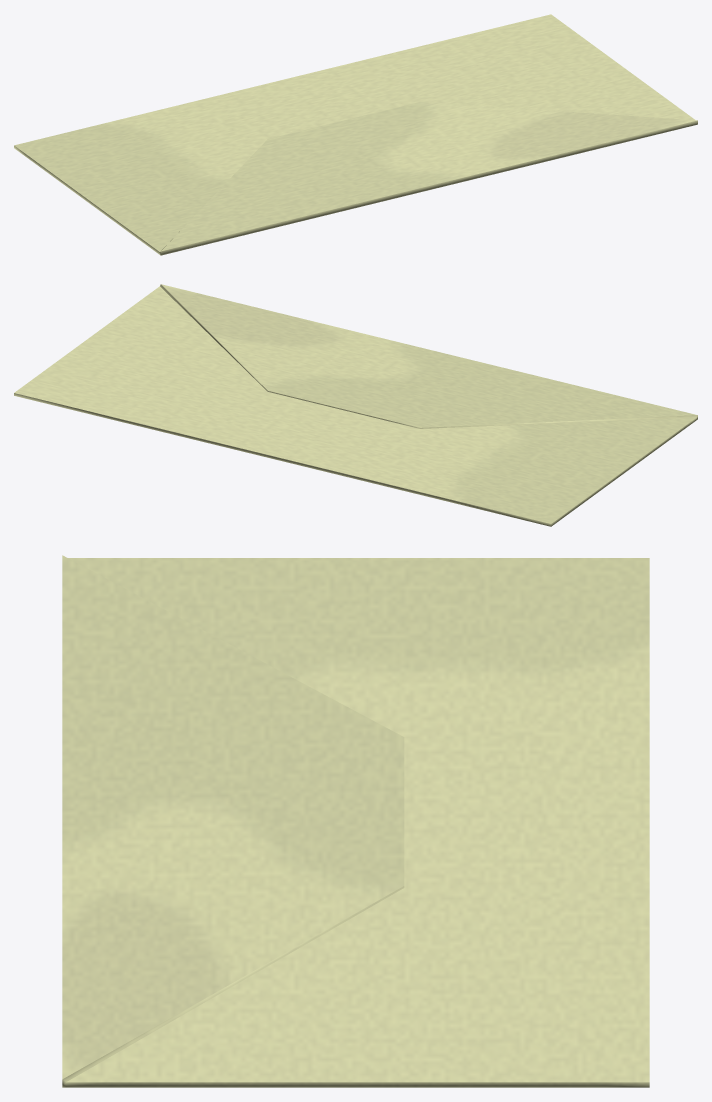
Rendered from Envelop.fbx.
3 views of the same model, one above another, from view 1: azimuth 30°, elevation 25°; view 2: azimuth 150°, elevation 25°; view 3: azimuth 270°, elevation 25° (orthographic). The views are drawn at different scales.
Parts seen in each view (by area): view 1: Envelop; view 2: Envelop; view 3: Envelop.
Boxes of the visible parts, box(x1,y1,x2,y2) form: Envelop: box(14, 14, 697, 255); Envelop: box(14, 284, 697, 526); Envelop: box(62, 555, 649, 1087).
Bounding box in the file's own units: 36.81 × 0.6879 × 17.43.
